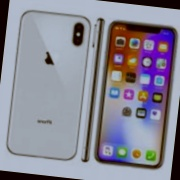iphone: (96, 18, 168, 163), (9, 17, 78, 161), (83, 17, 93, 162)
